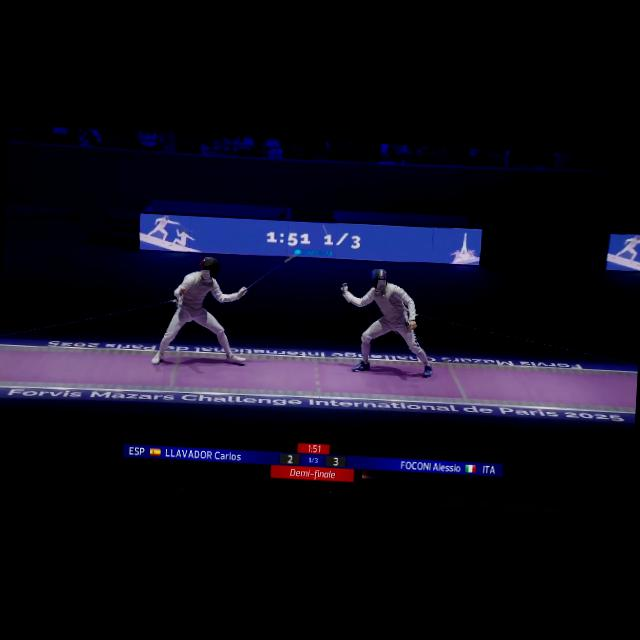blade: (240, 247, 302, 304), (318, 222, 353, 293)
